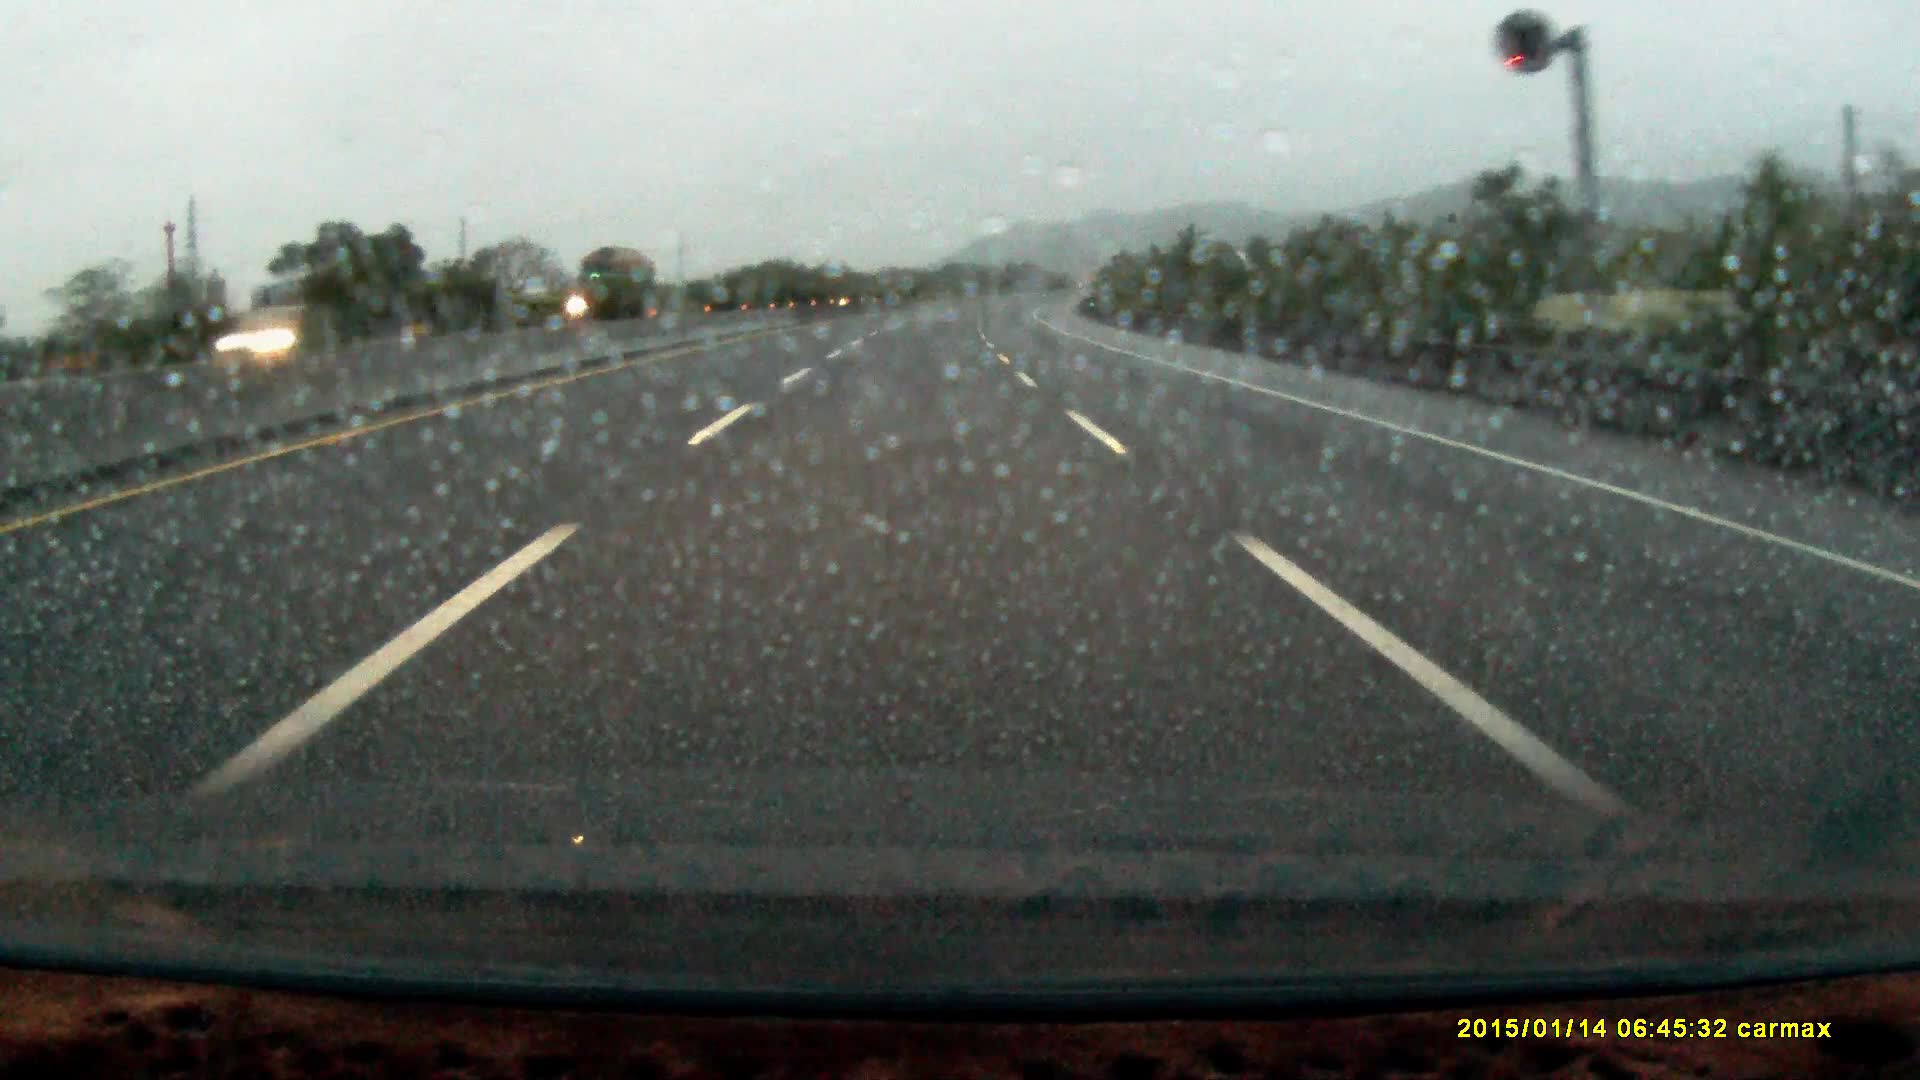vehicle: (211, 309, 360, 367), (566, 247, 659, 320)
